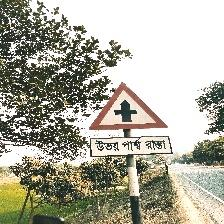Crossroad: (91, 80, 173, 155)
